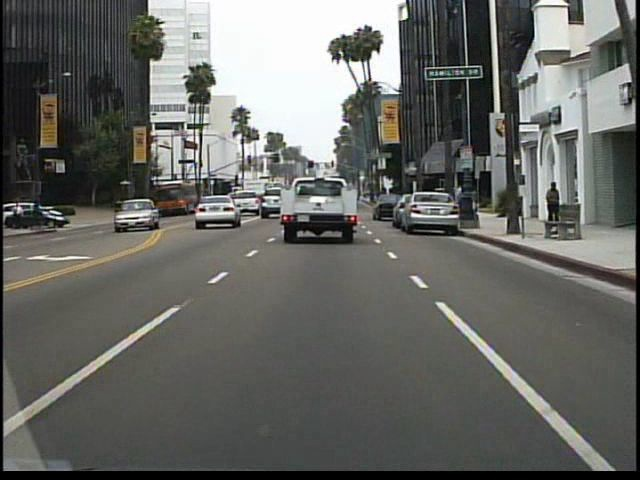person: (541, 178, 563, 229), (115, 192, 130, 221)
